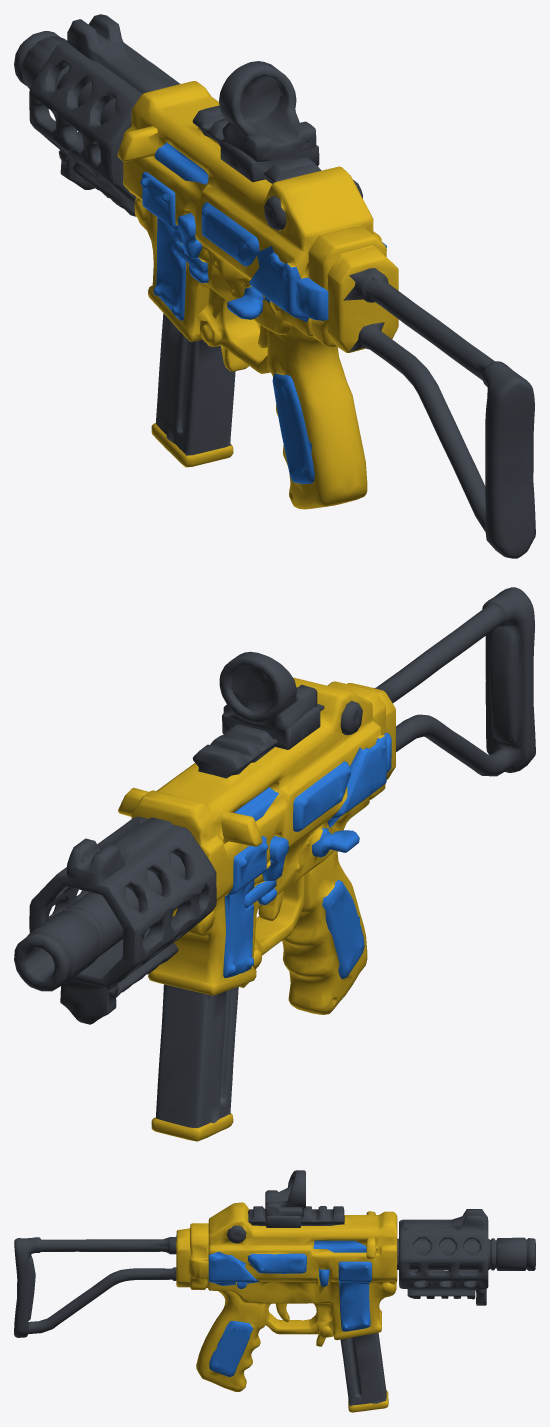
The model's file is rafale.glb.
3 renders of one model, top to bottom at view 1: azimuth 30°, elevation 25°; view 2: azimuth 150°, elevation 25°; view 3: azimuth 270°, elevation 25°, orthographic. The views are drawn at different scales.
Parts seen in each view (by area): view 1: Body, Magazine; view 2: Body, Magazine; view 3: Body, Magazine.
Part boxes in pixels (x1,y1,x2,y2): Body: [14, 14, 535, 558]; Magazine: [156, 313, 235, 455]; Body: [14, 587, 535, 1141]; Magazine: [155, 984, 238, 1127]; Body: [14, 1170, 535, 1412]; Magazine: [340, 1332, 386, 1406].
Bounding box in the file's own units: 0.1004 × 0.2977 × 0.6.
